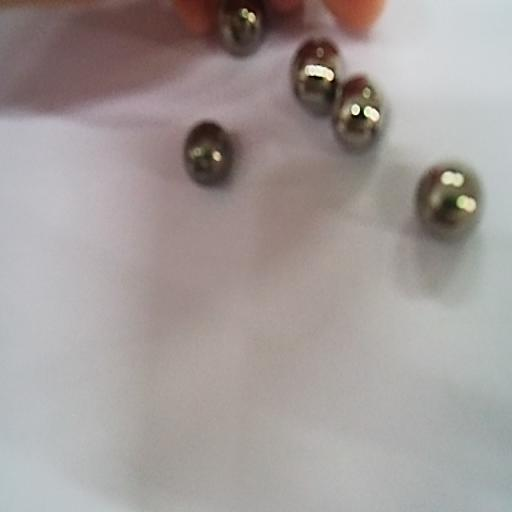steel-ball: (415, 157, 484, 244), (341, 75, 395, 153), (181, 114, 233, 193), (294, 36, 346, 114), (217, 6, 273, 58)
